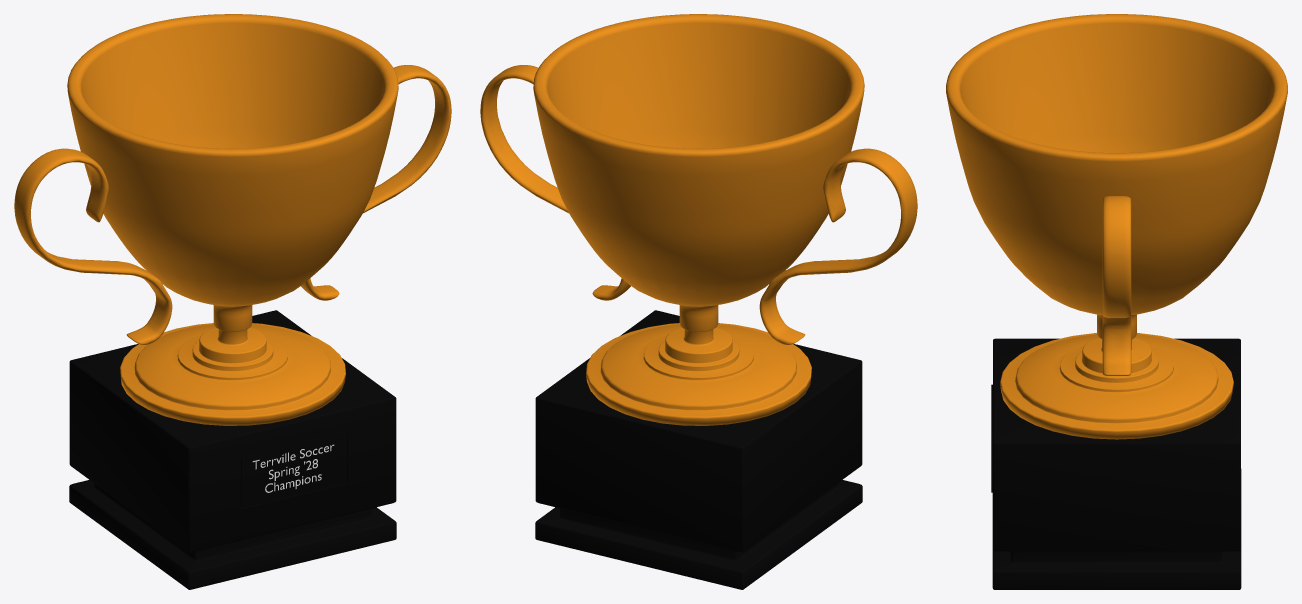
The model's file is terryville_soccer_2028_first (1).fbx.
3 renders of one model, left to right at view 1: azimuth 30°, elevation 25°; view 2: azimuth 150°, elevation 25°; view 3: azimuth 270°, elevation 25°, orthographic. The views are drawn at different scales.
Parts seen in each view (by area): view 1: Cup, Stand, Text.001; view 2: Cup, Stand; view 3: Cup, Stand.
Part boxes in pixels (x1,y1,x2,y2): Cup: [14, 14, 451, 425]; Stand: [69, 310, 396, 589]; Text.001: [252, 444, 334, 492]; Cup: [480, 14, 917, 425]; Stand: [535, 310, 862, 589]; Cup: [946, 14, 1287, 439]; Stand: [991, 338, 1241, 589].
Bounding box in the file's own units: 513 × 504 × 345.
